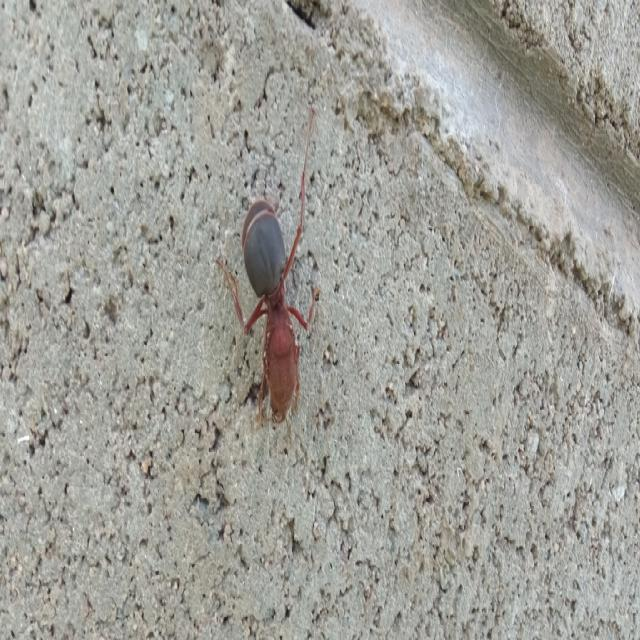Alive-Female-Dealate: (215, 110, 322, 454)
